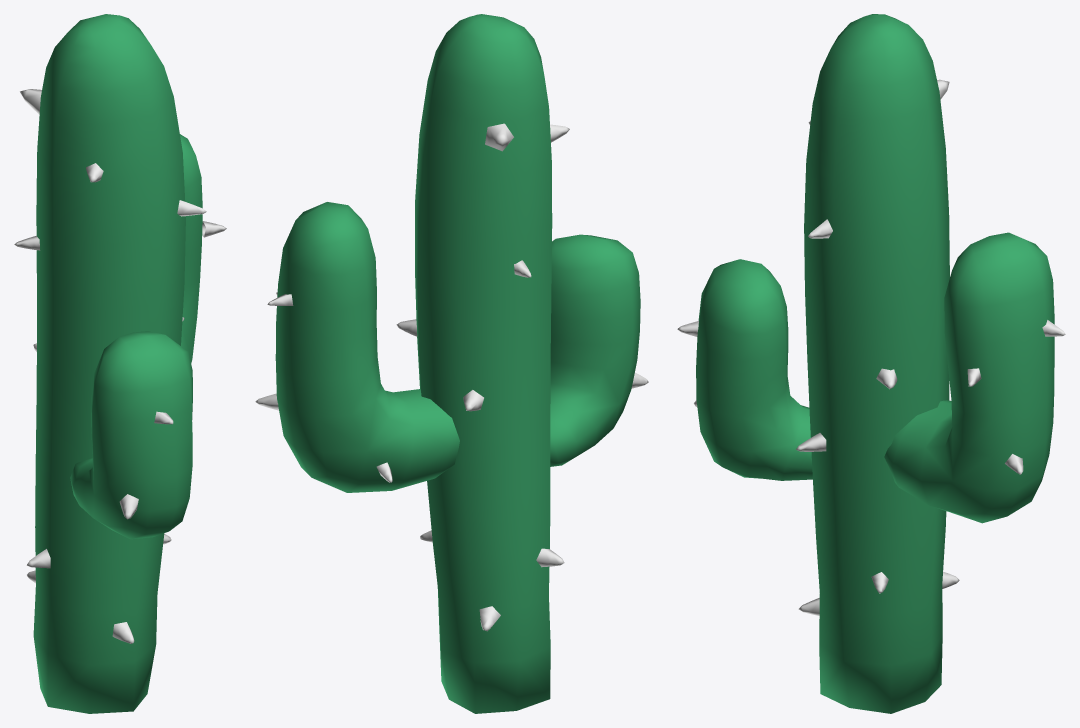
Rendered from Cactus_Daniel_V02.fbx.
The picture shows the model from 3 angles, left to right: view 1: azimuth 30°, elevation 25°; view 2: azimuth 150°, elevation 25°; view 3: azimuth 270°, elevation 25°; orthographic projection.
Visible parts, largest first — view 1: Cactus_low; view 2: Cactus_low; view 3: Cactus_low.
Boxes of the visible parts, box(x1,y1,x2,y2) form: Cactus_low: box(14, 14, 226, 713); Cactus_low: box(255, 14, 648, 713); Cactus_low: box(677, 14, 1065, 713).
Bounding box in the file's own units: 90.26 × 235 × 123.
